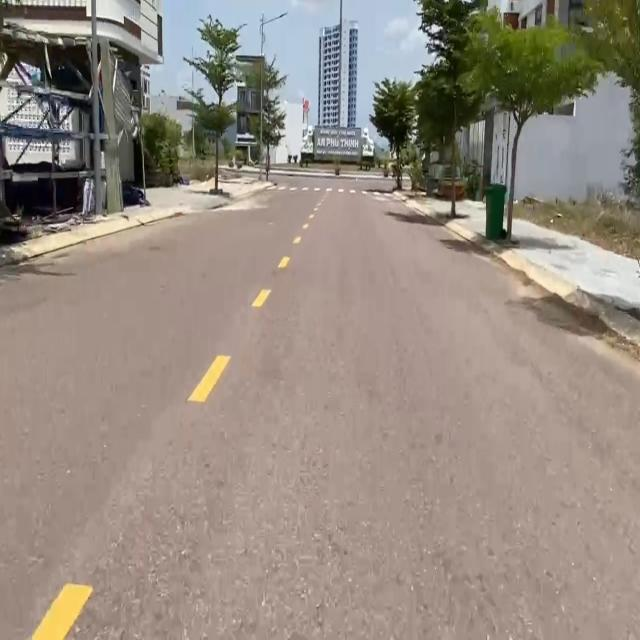walk-crossing: (266, 182, 384, 199)
